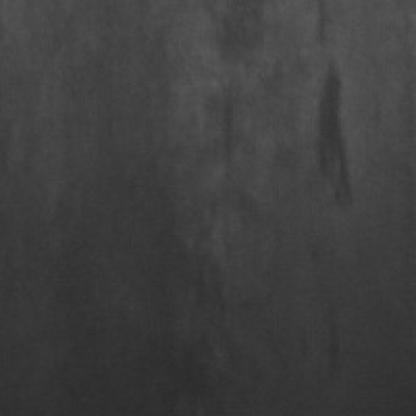inclusion: (300, 52, 368, 222), (204, 69, 254, 202), (312, 316, 348, 380)
